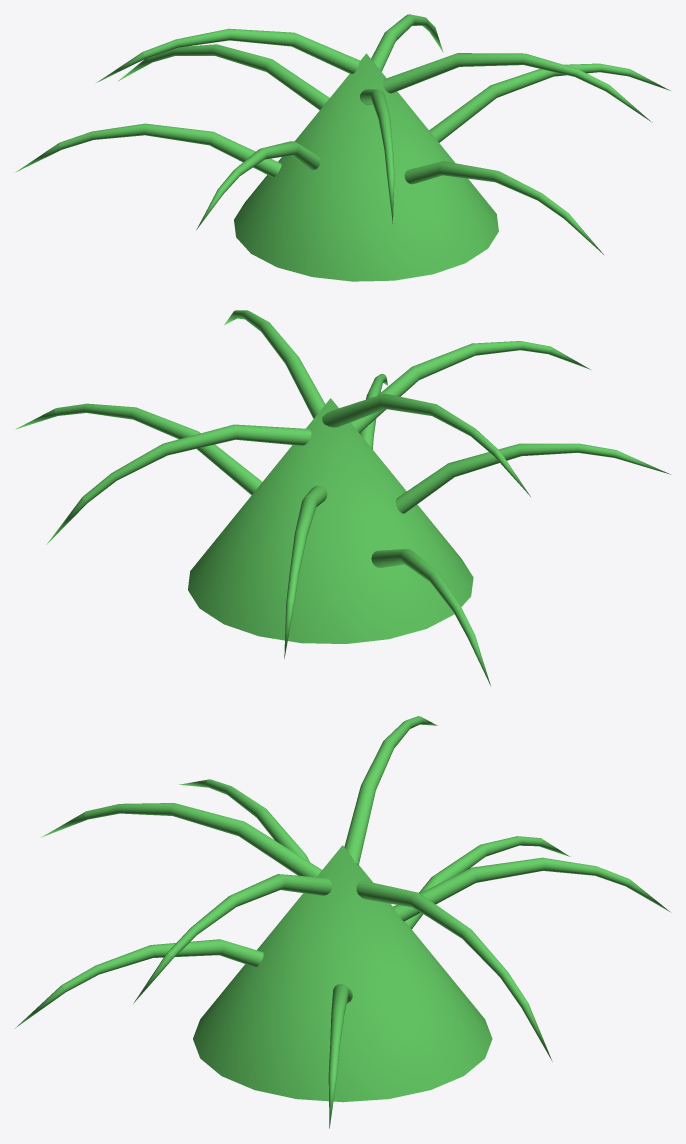
File: Brush_Ryan 1.fbx
3 views of the same model, one above another, from view 1: azimuth 30°, elevation 25°; view 2: azimuth 150°, elevation 25°; view 3: azimuth 270°, elevation 25° (orthographic). The views are drawn at different scales.
Parts seen in each view (by area): view 1: pCone1, pCylinder10, pCylinder7, pCylinder15, pCylinder14, pCylinder12, pCylinder13, pCylinder9, pCylinder8, pCylinder11; view 2: pCone1, pCylinder11, pCylinder9, pCylinder14, pCylinder7, pCylinder8, pCylinder15, pCylinder10, pCylinder12; view 3: pCone1, pCylinder8, pCylinder12, pCylinder11, pCylinder13, pCylinder10, pCylinder7, pCylinder15, pCylinder9, pCylinder14.
Part boxes in pixels (x1,y1,x2,y2): pCone1: [234, 53, 498, 281]; pCylinder10: [383, 53, 652, 122]; pCylinder7: [96, 28, 359, 82]; pCylinder15: [15, 123, 281, 177]; pCylinder14: [429, 63, 670, 142]; pCylinder12: [117, 44, 329, 110]; pCylinder13: [404, 161, 603, 254]; pCylinder9: [196, 141, 320, 230]; pCylinder8: [360, 89, 394, 223]; pCylinder11: [371, 14, 443, 71]; pCone1: [188, 398, 473, 643]; pCylinder11: [46, 424, 311, 544]; pCylinder9: [395, 443, 670, 513]; pCylinder14: [15, 403, 261, 495]; pCylinder7: [322, 393, 530, 496]; pCylinder8: [351, 341, 590, 432]; pCylinder15: [371, 549, 490, 685]; pCylinder10: [224, 310, 325, 418]; pCylinder12: [284, 485, 327, 658]; pCone1: [193, 845, 492, 1102]; pCylinder8: [41, 803, 321, 876]; pCylinder12: [393, 857, 671, 921]; pCylinder11: [356, 880, 552, 1061]; pCylinder13: [14, 939, 263, 1028]; pCylinder10: [133, 874, 332, 1003]; pCylinder7: [344, 716, 437, 865]; pCylinder15: [405, 836, 570, 929]; pCylinder9: [179, 779, 309, 861]; pCylinder14: [328, 984, 352, 1128].
Size of the model in its own units: 3.14 by 1.14 by 2.89.
